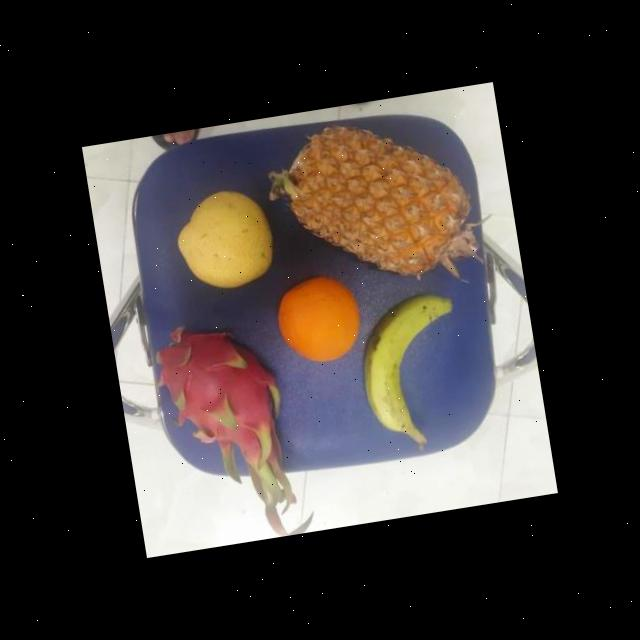banana: (354, 289, 466, 446)
orange: (272, 274, 371, 368)
pear: (168, 183, 284, 298)
pineapple: (275, 106, 487, 299)
pitaya: (144, 314, 296, 482)
